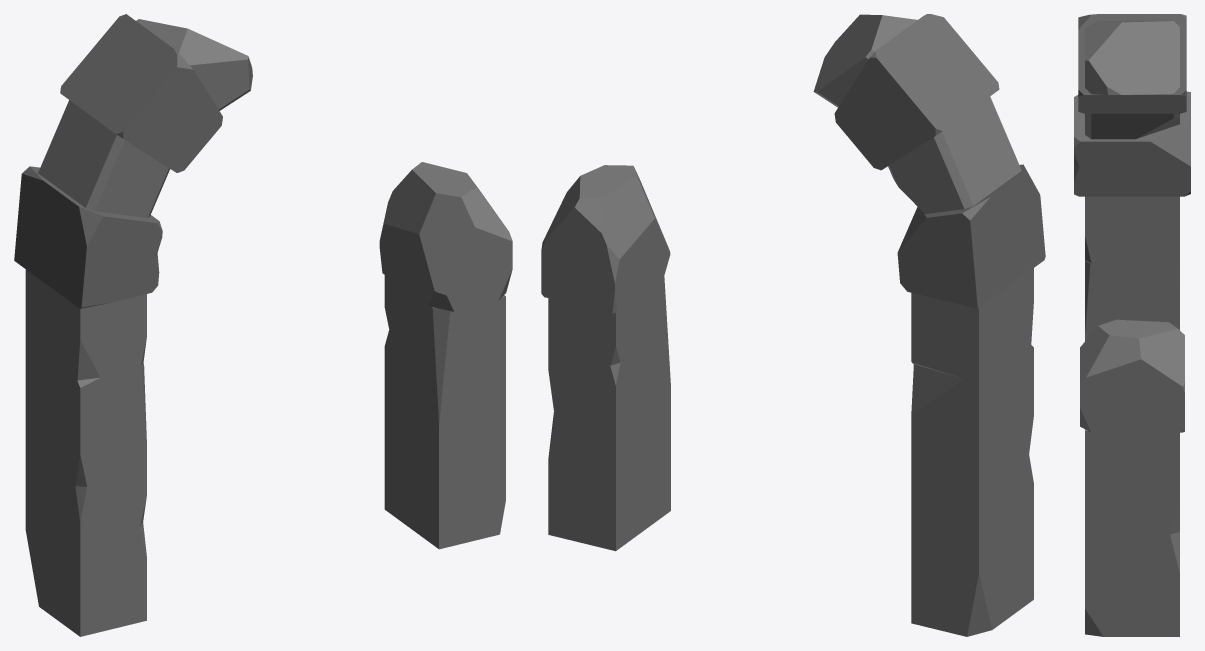
File: Arch_03.fbx
The picture shows the model from 3 angles, left to right: view 1: azimuth 30°, elevation 25°; view 2: azimuth 150°, elevation 25°; view 3: azimuth 270°, elevation 25°; orthographic projection. The views are drawn at different scales.
Visible parts, largest first — view 1: Arch_03_LOD0; view 2: Arch_03_LOD0; view 3: Arch_03_LOD0.
Part boxes in pixels (x1=…): Arch_03_LOD0: x1=14, y1=14, x2=512, y2=636; Arch_03_LOD0: x1=541, y1=14, x2=1045, y2=636; Arch_03_LOD0: x1=1074, y1=14, x2=1190, y2=636.
Size of what is drawn, in the model's own units: 2.38 by 2.94 by 0.6375.
